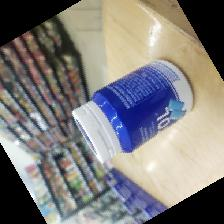Xylitol_blue: (69, 57, 193, 163)
